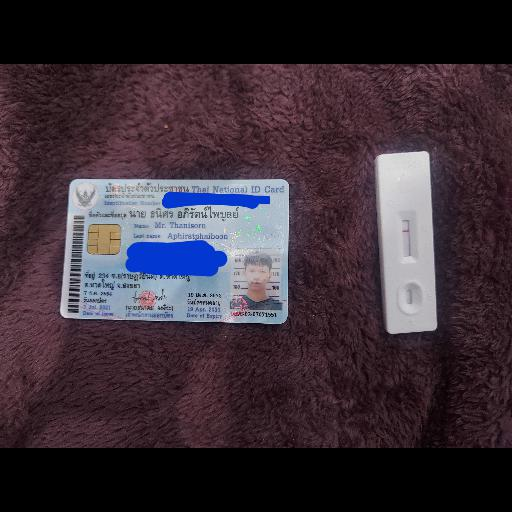Neg: (375, 151, 439, 335)
